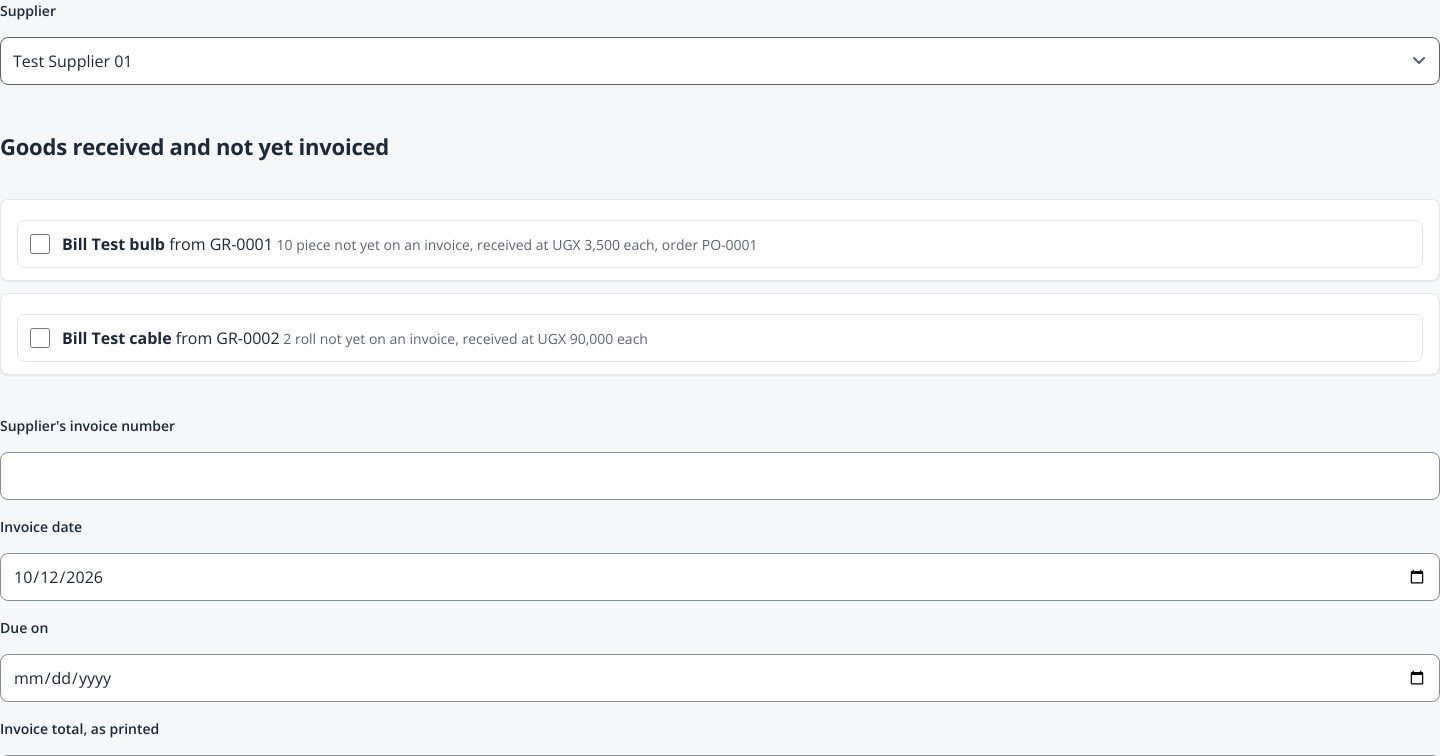
Test case: the supplier invoice form › lists the goods waiting for an invoice, unticked, and shows the lines once ticked
Expected: the checkbox labelled "Bill Test cable" is shown, [30,328,50,348]
Expected: the field labelled "Quantity billed" is not shown
Step 1. Click the checkbox labelled "Bill Test bulb" → x=40, y=244, box [30,234,50,254]
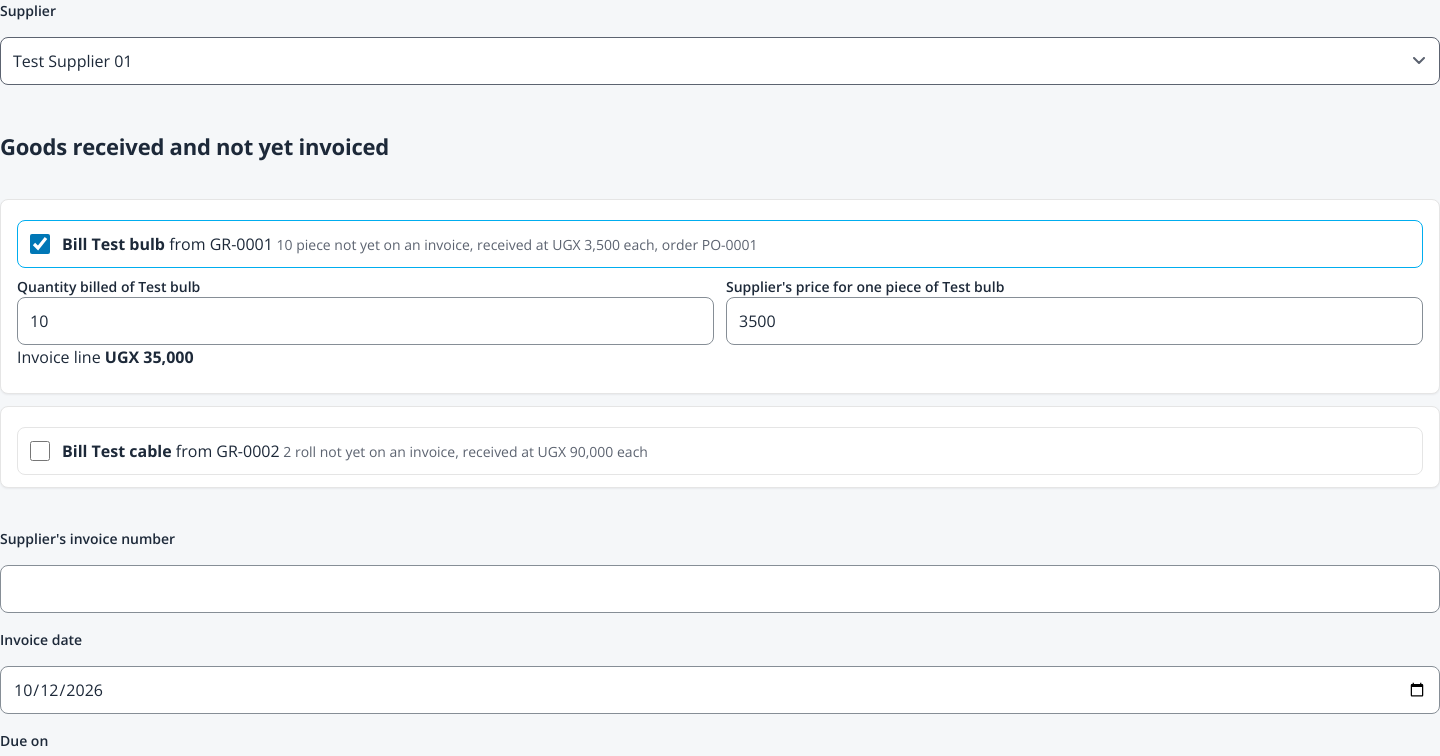
Result: the field labelled "Quantity billed of Test bulb" holds "10" at [17,297,714,345]
Result: the field labelled "Supplier's price for one piece of Test bulb" holds "3500" at [726,297,1423,345]
